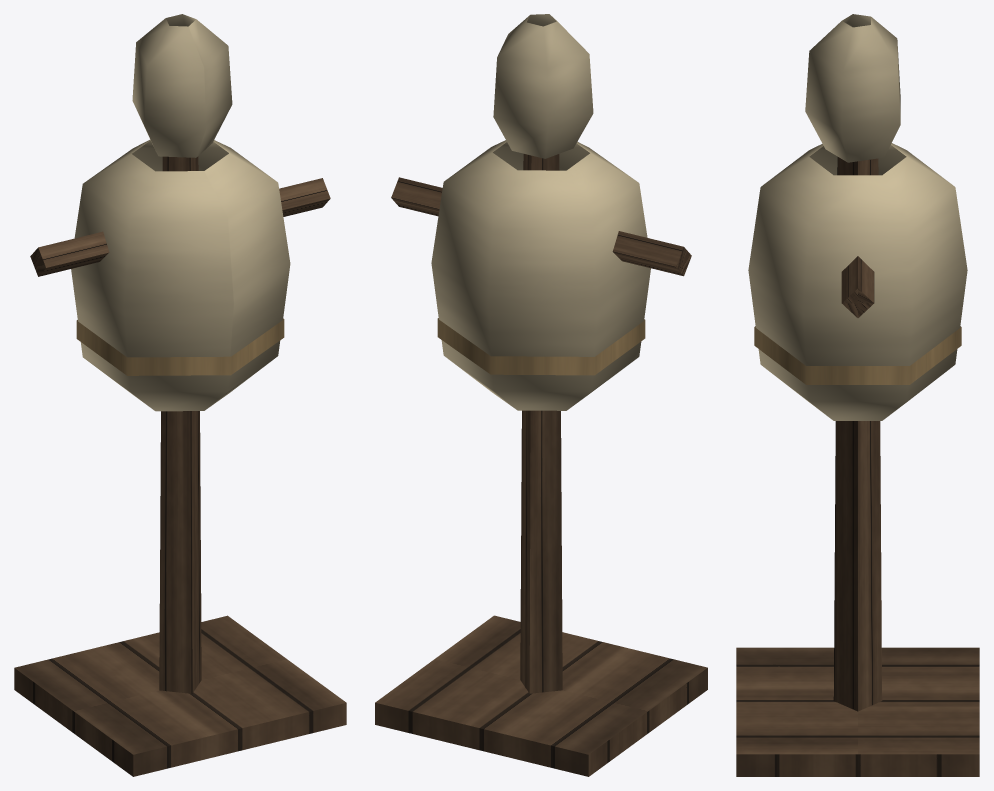
File: Dummy_LOD1.gltf
3 views of the same model, side by side, from view 1: azimuth 30°, elevation 25°; view 2: azimuth 150°, elevation 25°; view 3: azimuth 270°, elevation 25° (orthographic). The views are drawn at different scales.
Parts seen in each view (by area): view 1: Dummy_LOD1; view 2: Dummy_LOD1; view 3: Dummy_LOD1.
Boxes of the visible parts, x1=… form: Dummy_LOD1: x1=14, y1=14, x2=346, y2=776; Dummy_LOD1: x1=375, y1=14, x2=707, y2=776; Dummy_LOD1: x1=736, y1=14, x2=979, y2=776.
Bounding box in the file's own units: 0.808 × 1.86 × 0.585.
3 materials, 3 textured.
